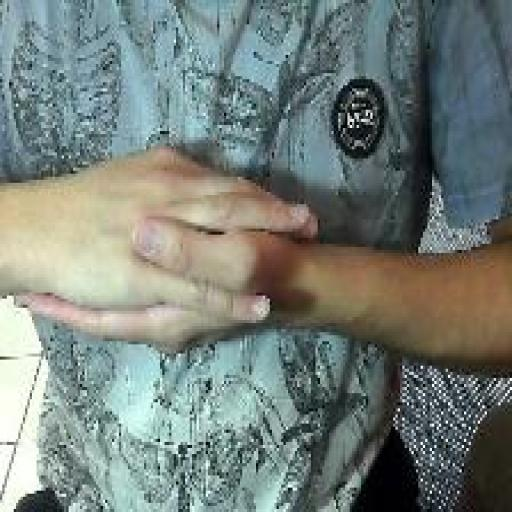Saru -monkey-: (7, 137, 324, 366)
